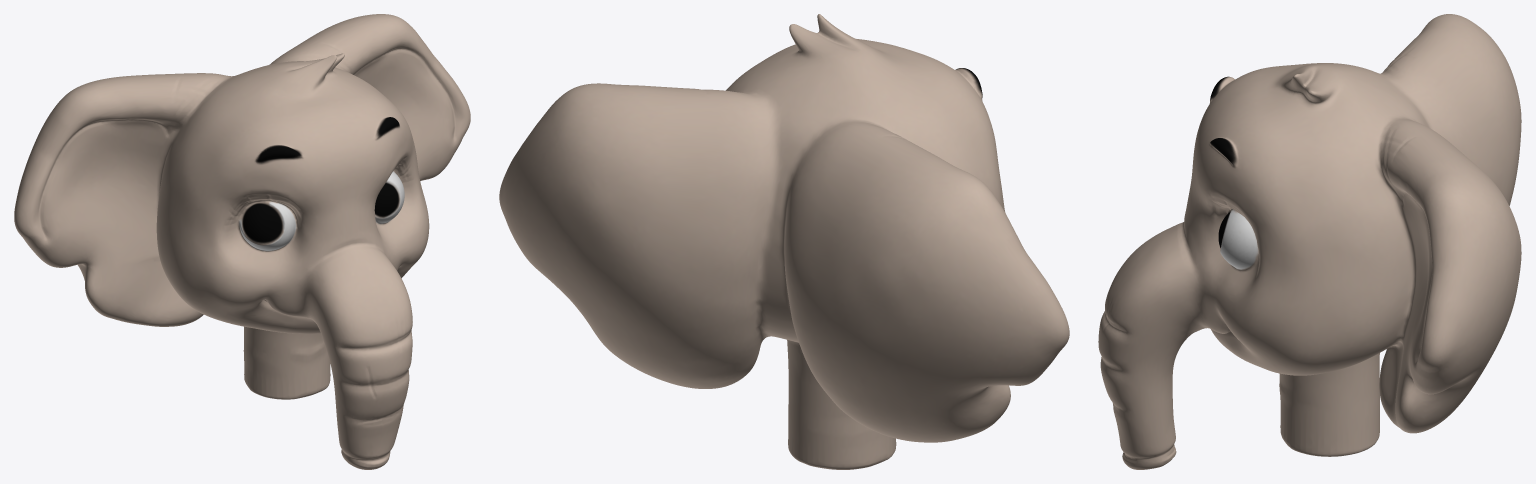
The model's file is Tete_Elephant.glb.
3 views of the same model, side by side, from view 1: azimuth 30°, elevation 25°; view 2: azimuth 150°, elevation 25°; view 3: azimuth 270°, elevation 25° (orthographic). The views are drawn at different scales.
Parts seen in each view (by area): view 1: Tete_Elephant; view 2: Tete_Elephant; view 3: Tete_Elephant.
Boxes of the visible parts, bbox=[...] form: Tete_Elephant: bbox=[14, 14, 470, 469]; Tete_Elephant: bbox=[499, 14, 1069, 469]; Tete_Elephant: bbox=[1098, 14, 1521, 469].
Size of the model in its own units: 7.22 by 5.38 by 5.06.
